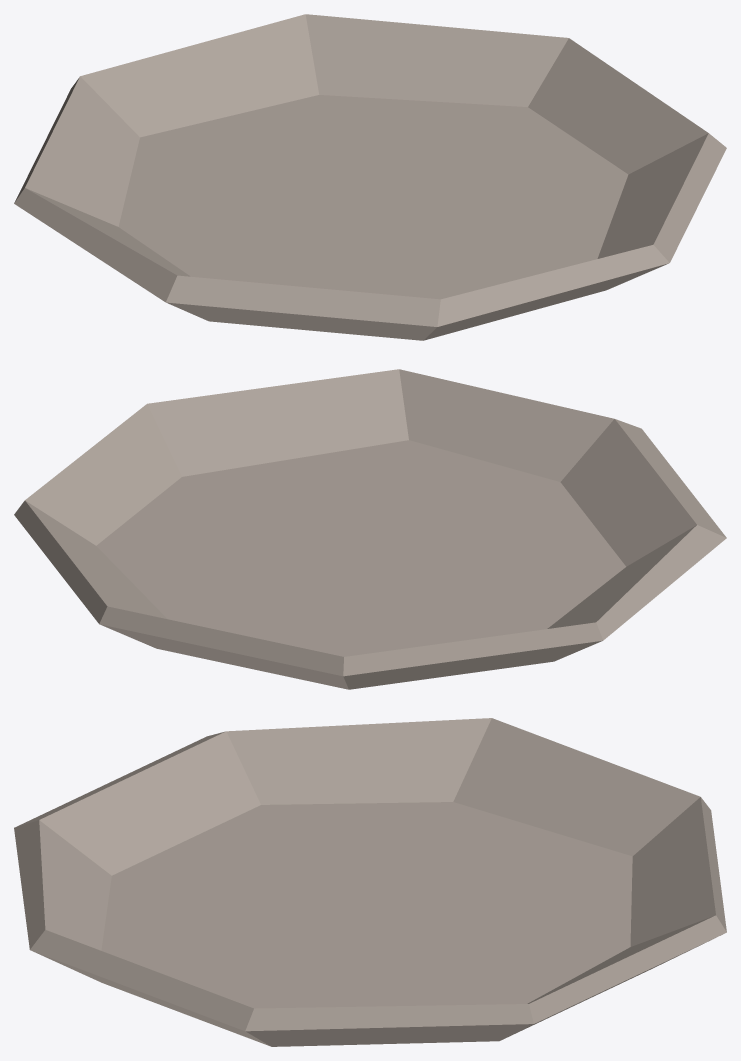
The model's file is SM_Plate_B.gltf.
The picture shows the model from 3 angles, top to bottom: view 1: azimuth 30°, elevation 25°; view 2: azimuth 150°, elevation 25°; view 3: azimuth 270°, elevation 25°; orthographic projection. The views are drawn at different scales.
Visible parts, largest first — view 1: SM_Plates_B; view 2: SM_Plates_B; view 3: SM_Plates_B.
Part boxes in pixels (bbox=[...]): SM_Plates_B: bbox=[14, 14, 726, 340]; SM_Plates_B: bbox=[14, 369, 726, 689]; SM_Plates_B: bbox=[14, 718, 726, 1046].
Size of the model in its own units: 0.3612 by 0.0361 by 0.3612.
Materials: 1 (1 with a texture image).
